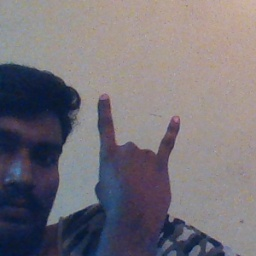V: (91, 91, 183, 226)
